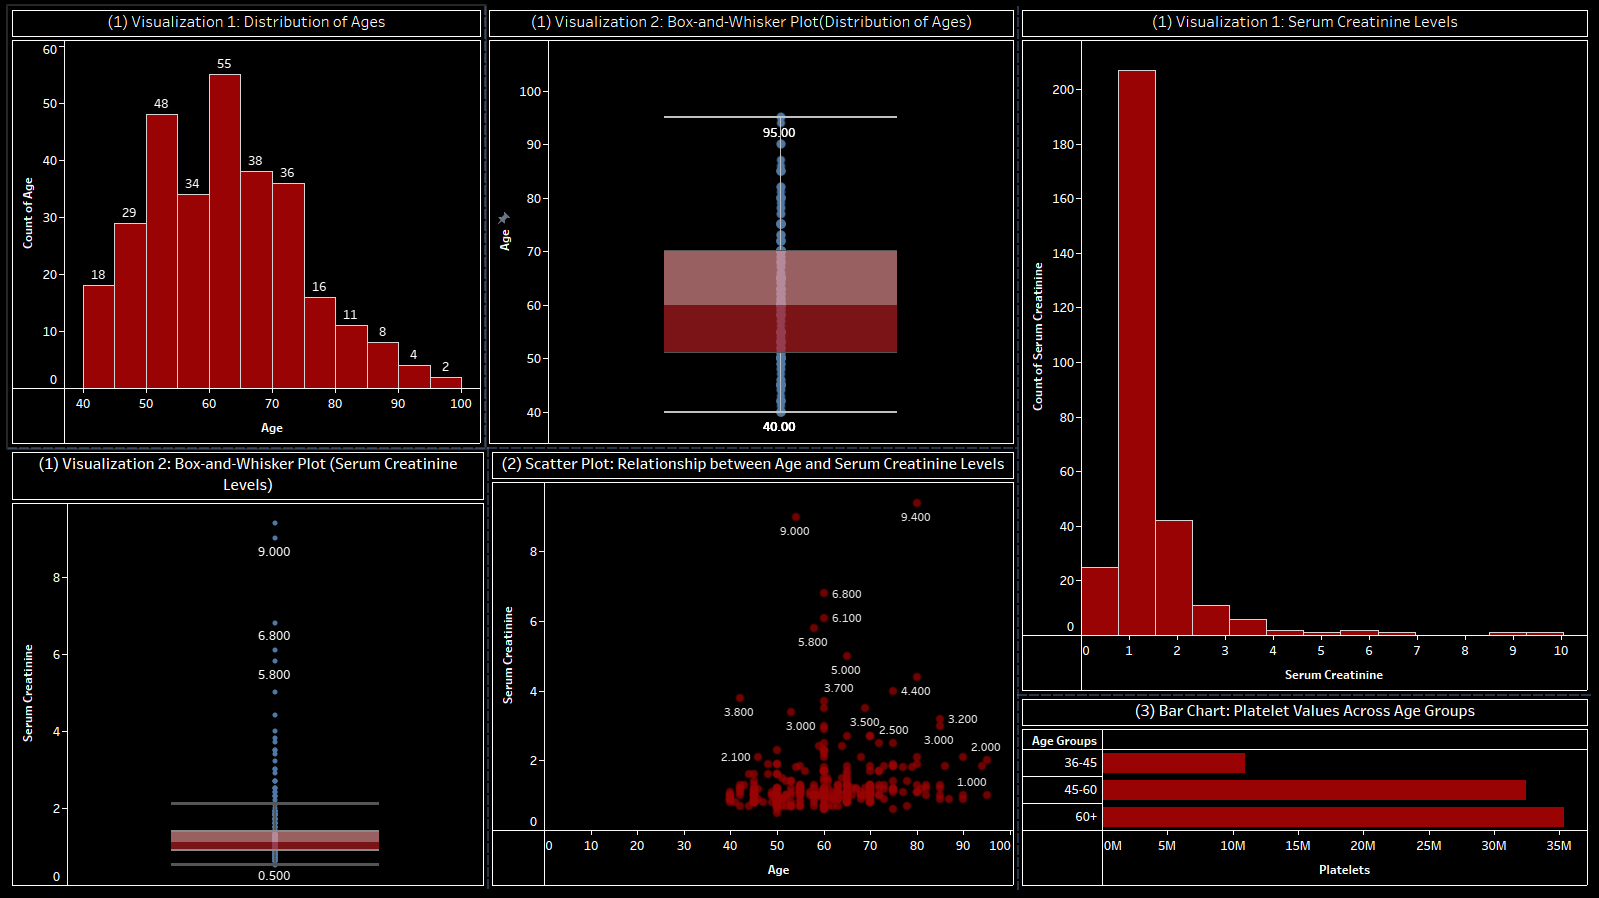

This screenshot's page, from the dashboard's own definition file:
{"tool":"tableau","page":{"name":"Dashboard 1","canvas":[1600,900],"ordinal":0},"visuals":[{"type":"worksheet","title":"Answer(1-A)","mark":"Automatic","rows":["age"],"cols":["Age (bin)"],"box":[8,8,477,442]},{"type":"worksheet","title":"Answer(1-B)","mark":"Circle","rows":["age"],"box":[485,8,533,442]},{"type":"worksheet","title":"Answer(1-C)","mark":"Automatic","rows":["serum_creatinine"],"cols":["Serum Creatinine (bin)"],"box":[1018,8,574,689]},{"type":"worksheet","title":"Answer(1-D)","mark":"Circle","rows":["serum_creatinine"],"box":[8,450,480,442]},{"type":"worksheet","title":"Answer(2)","mark":"Automatic","rows":["serum_creatinine"],"cols":["age"],"box":[488,450,530,442]},{"type":"worksheet","title":"Answer(3)","mark":"Bar","rows":["Calculation_201254631357657088"],"cols":["platelets"],"box":[1018,697,574,195]}]}

Visuals, with their boxes in screenshot pixels (x1, y1, x2, y2), scaled from the page's 1600x900 canvas onto the 1599x898 screenshot:
"Answer(1-A)" worksheet: crop(8, 8, 485, 449)
"Answer(1-B)" worksheet (Circle marks): crop(485, 8, 1017, 449)
"Answer(1-C)" worksheet: crop(1017, 8, 1591, 695)
"Answer(1-D)" worksheet (Circle marks): crop(8, 449, 488, 890)
"Answer(2)" worksheet: crop(488, 449, 1017, 890)
"Answer(3)" worksheet (Bar marks): crop(1017, 695, 1591, 890)
